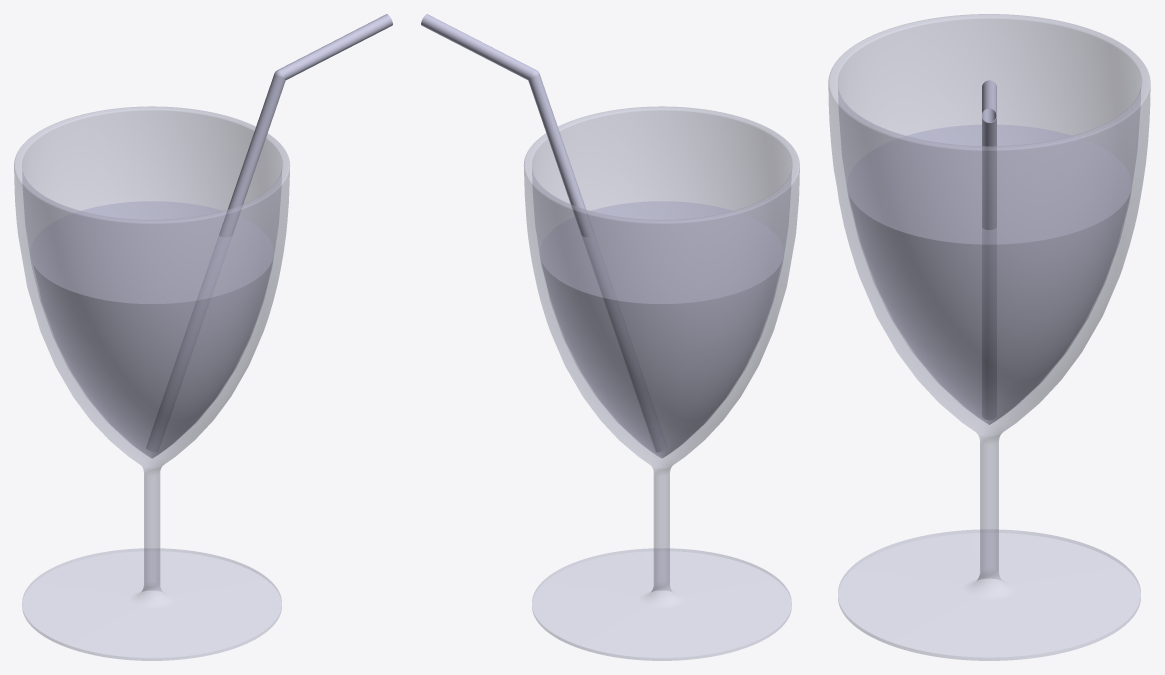
Rendered from cocktail.gltf.
The picture shows the model from 3 angles, left to right: view 1: azimuth 30°, elevation 25°; view 2: azimuth 150°, elevation 25°; view 3: azimuth 270°, elevation 25°; orthographic projection. The views are drawn at different scales.
Parts seen in each view (by area): view 1: Body, Body001, Body002; view 2: Body, Body001, Body002; view 3: Body, Body001, Body002.
Boxes of the visible parts, x1,y1,x2,y2 form: Body: (14, 106, 290, 660); Body001: (30, 201, 273, 458); Body002: (146, 14, 392, 451); Body: (523, 106, 799, 660); Body001: (540, 201, 783, 458); Body002: (421, 14, 667, 451); Body: (828, 14, 1150, 660); Body001: (847, 124, 1131, 424); Body002: (982, 80, 996, 419).
Bounding box in the file's own units: 0.1273 × 0.1813 × 0.085.
